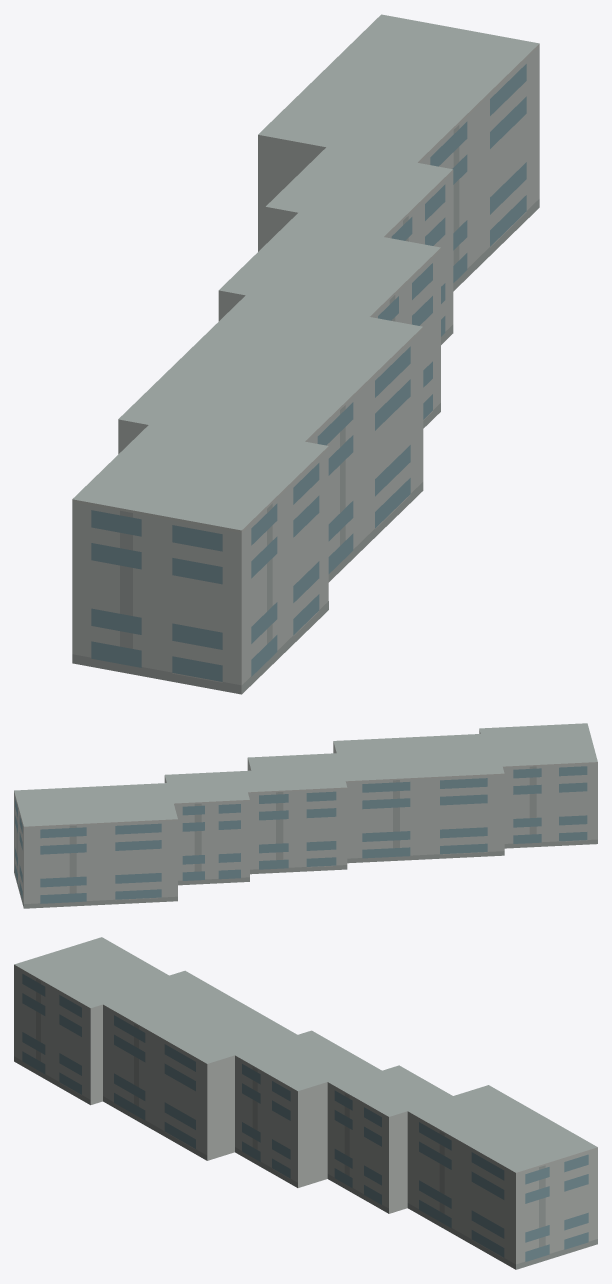
The model's file is residential-730b9e1e-25a3-4dfa-9487-f70a2810fe0f.glb.
The picture shows the model from 3 angles, top to bottom: view 1: azimuth 30°, elevation 25°; view 2: azimuth 150°, elevation 25°; view 3: azimuth 270°, elevation 25°; orthographic projection. The views are drawn at different scales.
Visible parts, largest first — view 1: residential-730b9e1e-25a3-4dfa-9487-f70a2810fe0f.tmp; view 2: residential-730b9e1e-25a3-4dfa-9487-f70a2810fe0f.tmp; view 3: residential-730b9e1e-25a3-4dfa-9487-f70a2810fe0f.tmp.
Boxes of the visible parts, x1,y1,x2,y2 form: residential-730b9e1e-25a3-4dfa-9487-f70a2810fe0f.tmp: [72, 14, 539, 694]; residential-730b9e1e-25a3-4dfa-9487-f70a2810fe0f.tmp: [14, 723, 597, 908]; residential-730b9e1e-25a3-4dfa-9487-f70a2810fe0f.tmp: [14, 937, 597, 1269].
Size of the model in its own units: 79.54 by 15.25 by 83.22.
